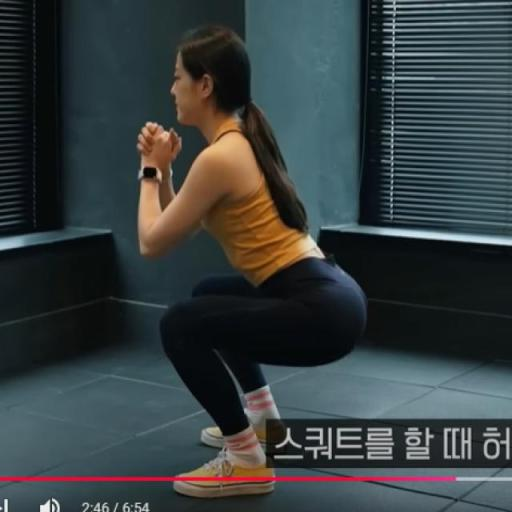Normal_OverheadPress: (95, 14, 510, 512)
